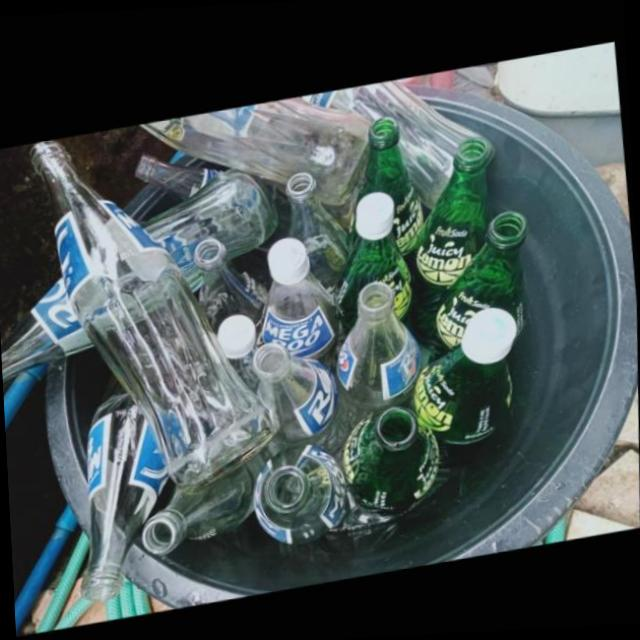chai_thuy_tinh: (31, 133, 279, 489), (142, 92, 372, 202), (305, 77, 495, 205), (408, 136, 497, 368), (87, 368, 173, 595), (411, 306, 520, 462), (143, 165, 280, 283), (429, 210, 531, 363), (147, 440, 278, 549), (337, 278, 425, 428), (339, 190, 415, 333), (256, 337, 352, 450), (351, 113, 426, 256), (265, 233, 343, 370), (347, 404, 443, 514), (1, 270, 96, 378), (258, 441, 350, 537), (195, 233, 273, 344), (287, 168, 352, 298), (138, 150, 228, 196)
